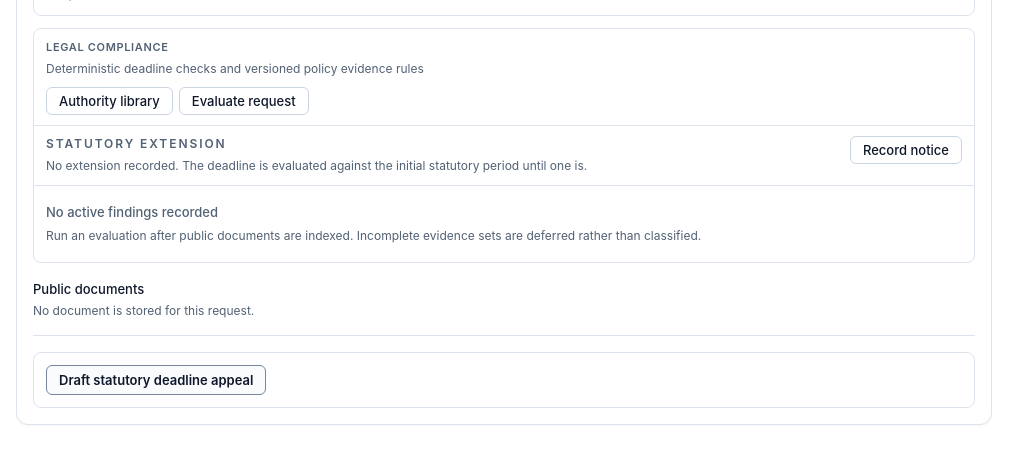
Test: StatutoryDeadlineAppeal mount › renders for a counted statutory violation and drafts only on click
(page scrolled)
Click the button "Draft statutory deadline appeal" at (156, 380), box [46,364,266,394]
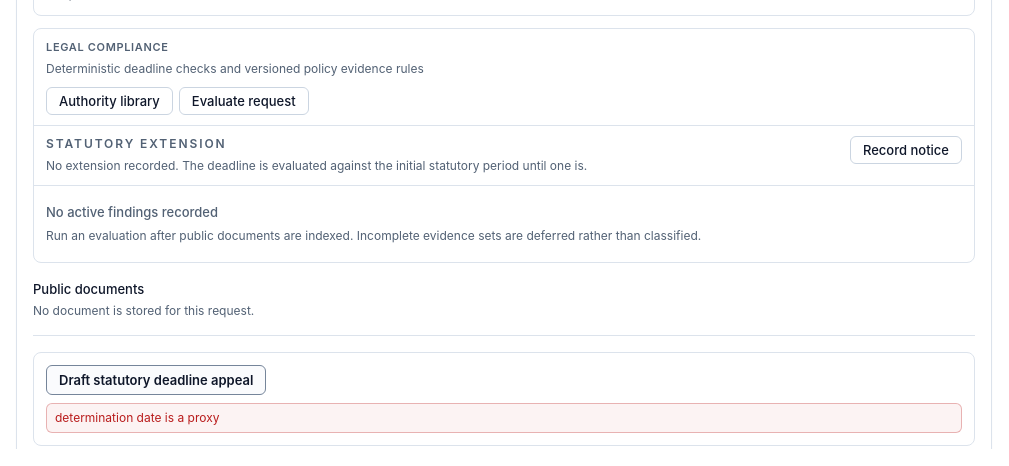
Expected: the text "determination date is a proxy" is shown, [46,402,962,432]
